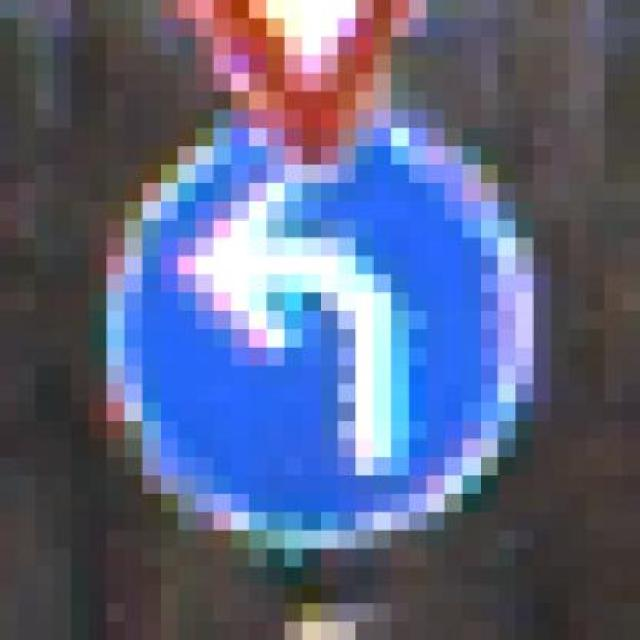Turn left ahead: (71, 73, 569, 567)
